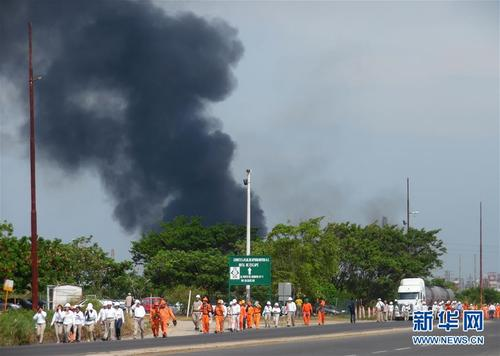smoke: (70, 2, 268, 238)
